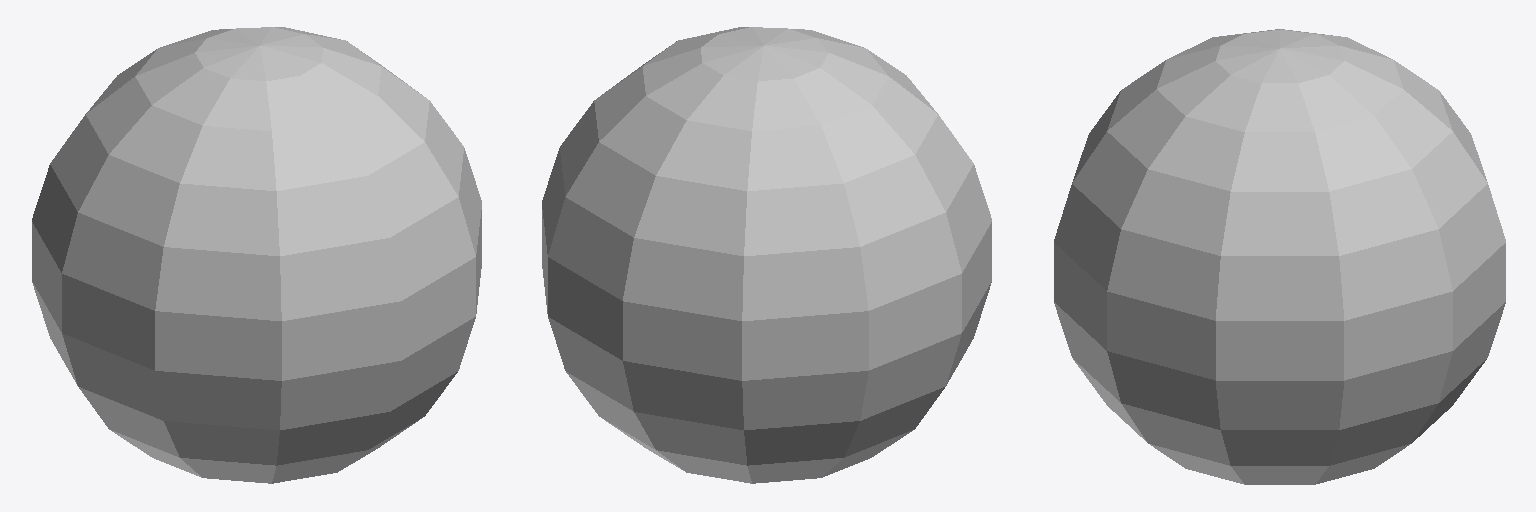
The model's file is BalleDeTennis.obj.
The picture shows the model from 3 angles: view 1: azimuth 30°, elevation 25°; view 2: azimuth 150°, elevation 25°; view 3: azimuth 270°, elevation 25°; orthographic projection.
Visible parts, largest first — view 1: Sphere; view 2: Sphere; view 3: Sphere.
Boxes of the visible parts, <box> form: Sphere: <box>32,27,481,483</box>; Sphere: <box>542,27,991,483</box>; Sphere: <box>1054,29,1505,484</box>.
Size of the model in its own units: 1.94 by 2 by 1.96.